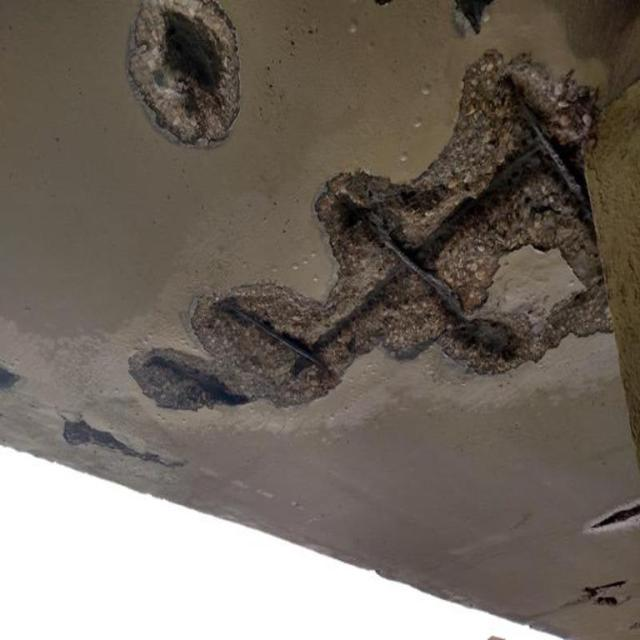spalling: (126, 48, 616, 413), (128, 0, 243, 146)
